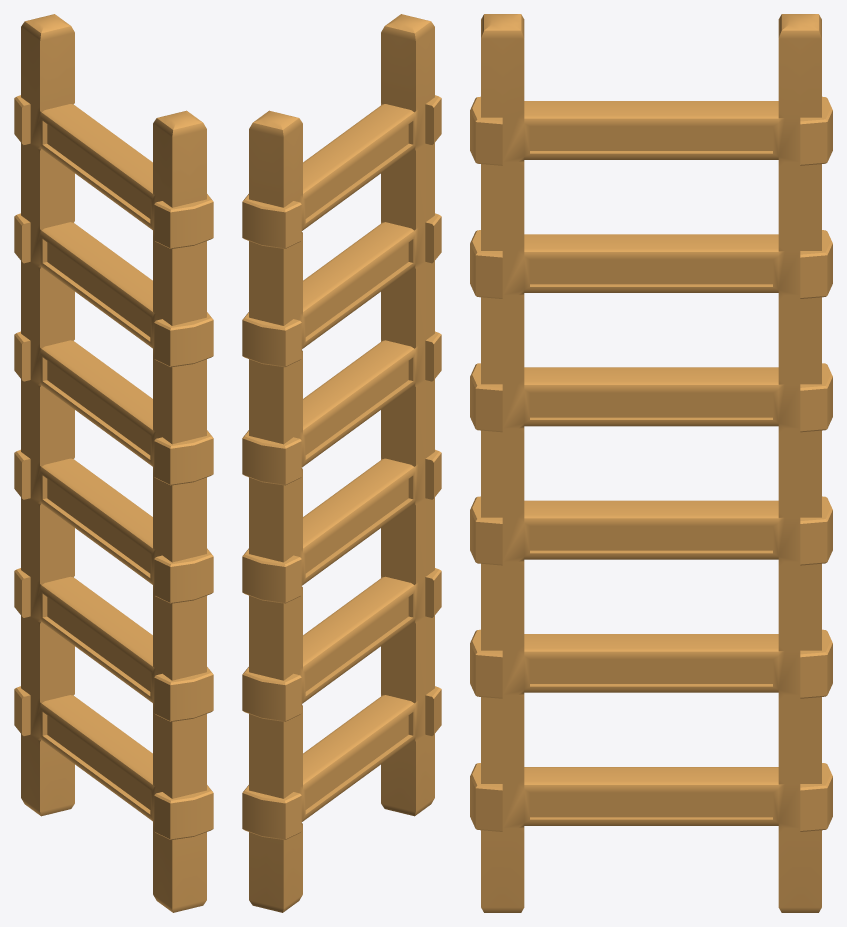
Rendered from ladder.fbx.
The picture shows the model from 3 angles, left to right: view 1: azimuth 30°, elevation 25°; view 2: azimuth 150°, elevation 25°; view 3: azimuth 270°, elevation 25°; orthographic projection. The views are drawn at different scales.
Parts seen in each view (by area): view 1: ladder_low; view 2: ladder_low; view 3: ladder_low.
Part boxes in pixels (bbox=[...]): ladder_low: bbox=[14, 14, 213, 912]; ladder_low: bbox=[242, 14, 441, 912]; ladder_low: bbox=[470, 14, 832, 912].
Bounding box in the file's own units: 0.335 × 4.88 × 1.81.
